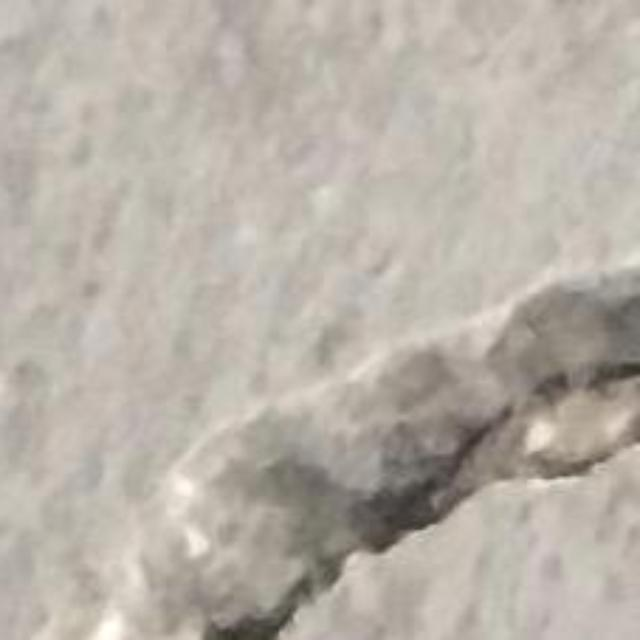crack: (129, 266, 639, 639)
